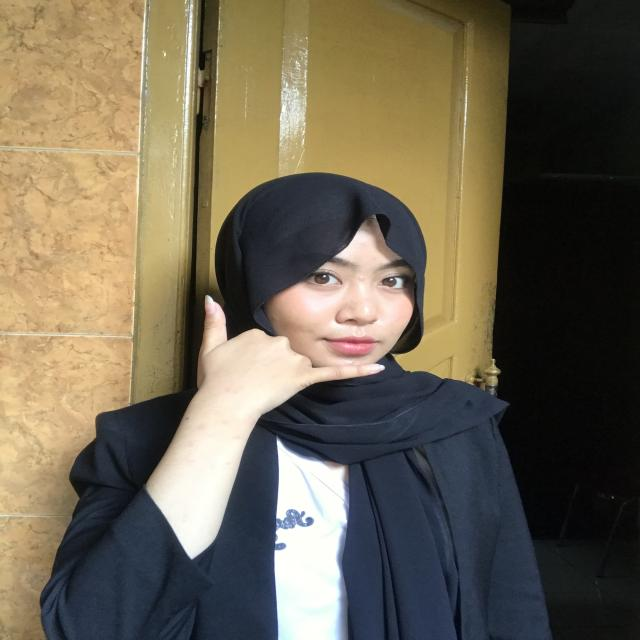telpon: (168, 286, 392, 417)
